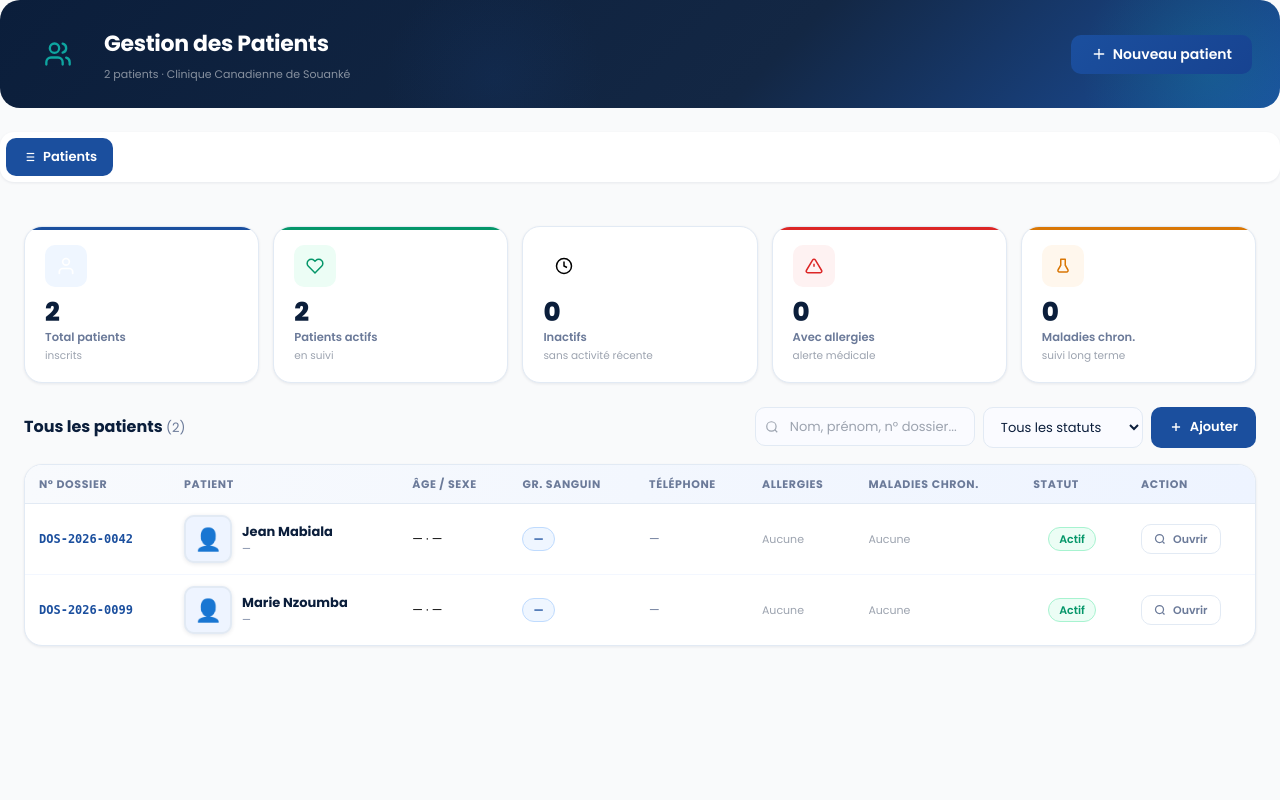
Test case: PAT-CLIENTFILTER-005 — la recherche client par numéro de dossier filtre réellement la liste déjà chargée
Expected: the text "DOS-2026-0042" is shown, x1=39 y1=532 x2=133 y2=546
Expected: the text "DOS-2026-0099" is shown, x1=39 y1=603 x2=133 y2=617
Type "0099" into the field with placeholder "Nom, prénom, n° dossier..." at [865, 426], box x1=755 y1=406 x2=975 y2=446
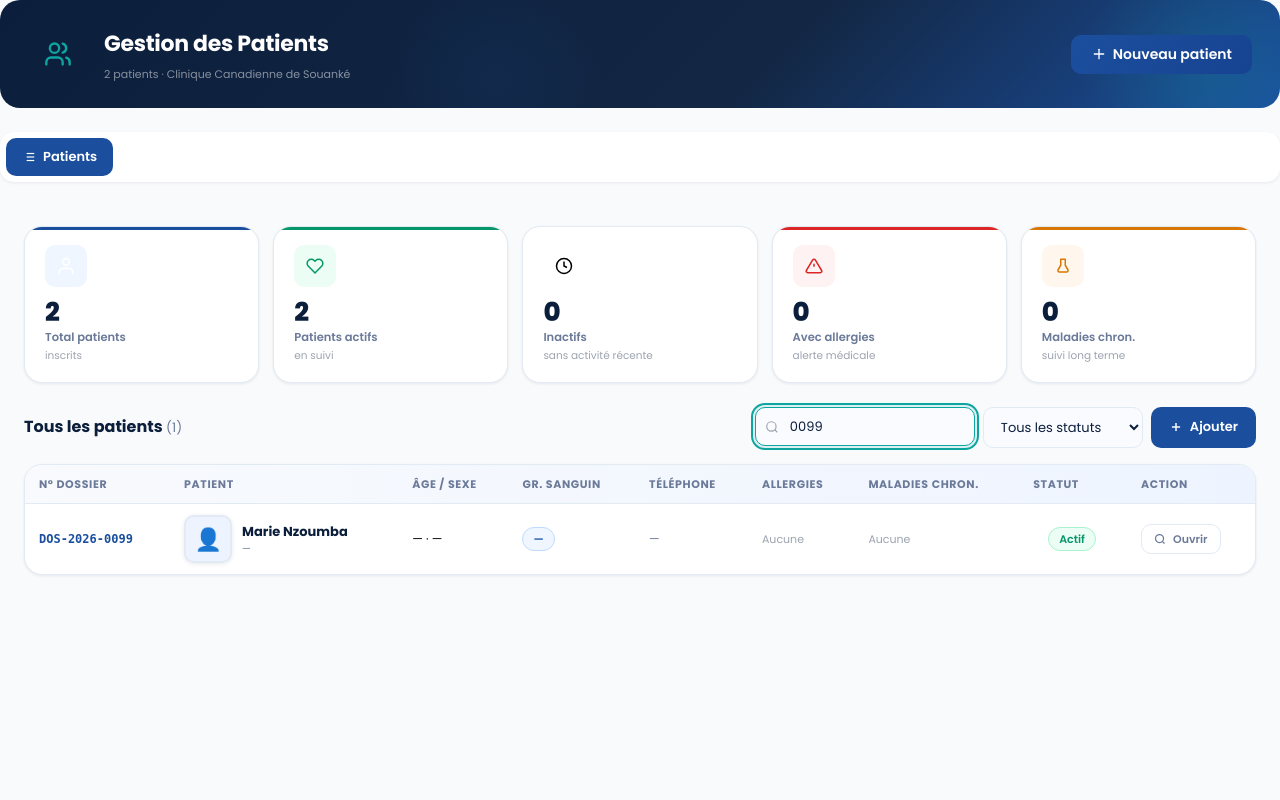
Expected: the text "DOS-2026-0099" is shown, x1=39 y1=532 x2=133 y2=546
Expected: the text "DOS-2026-0042" is gone
